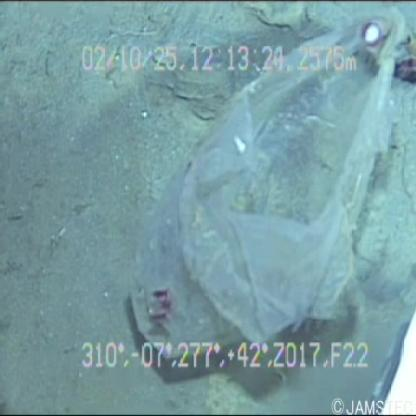Rác: (123, 10, 407, 393)
